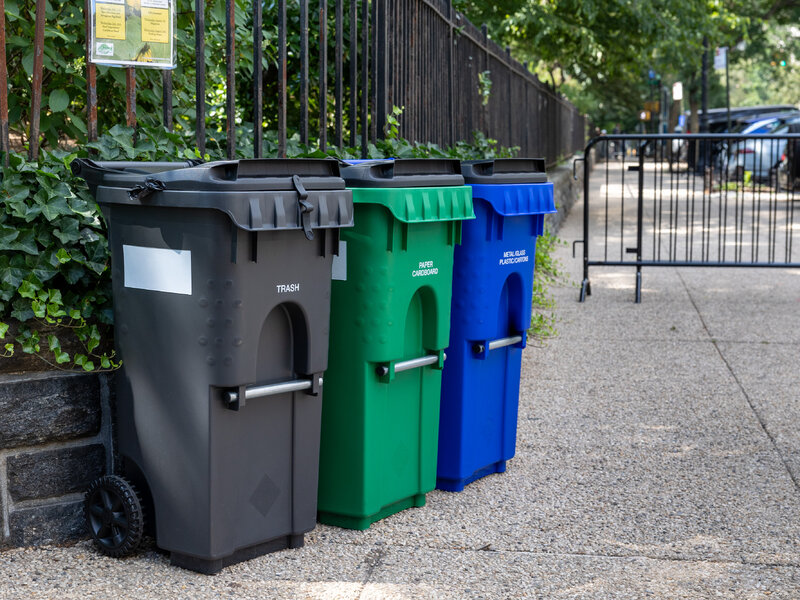TrashBin: (83, 135, 340, 578), (326, 132, 468, 528), (454, 125, 543, 488)
